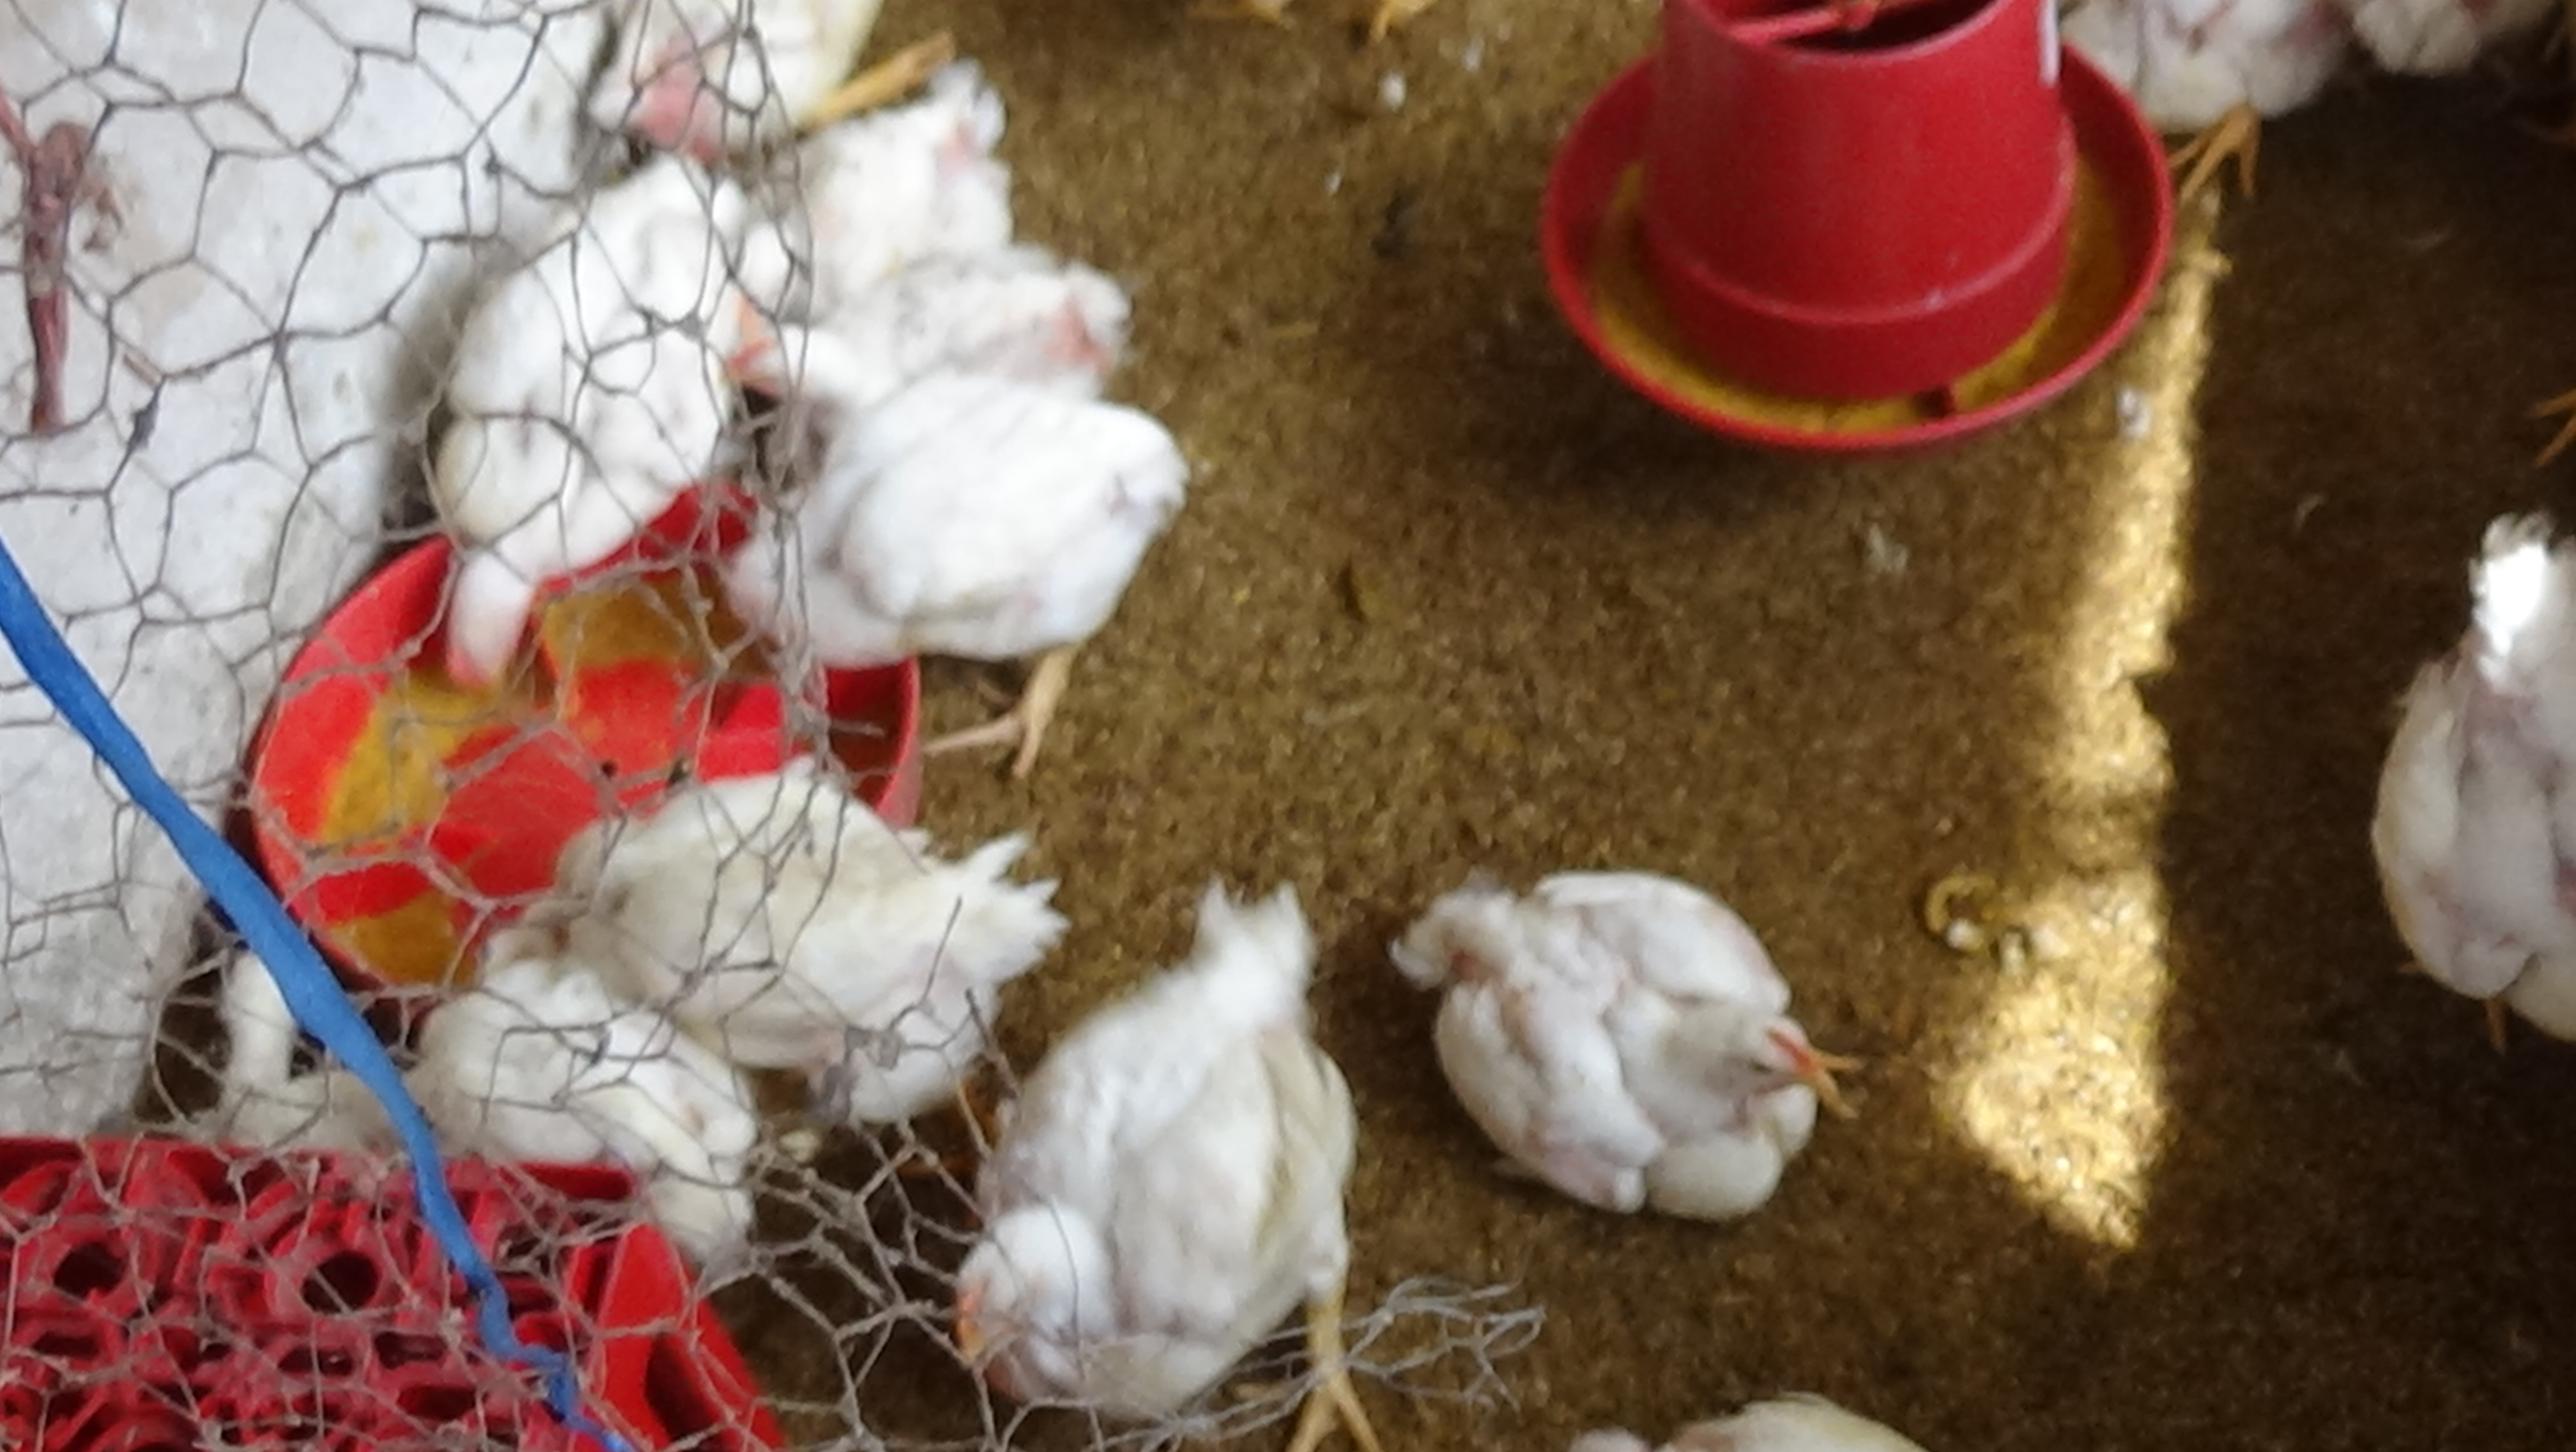Pollos: (906, 850, 1392, 1395), (393, 154, 761, 705), (1410, 818, 1863, 1227), (492, 760, 1042, 1096), (690, 397, 1189, 760), (2406, 496, 2576, 1128), (715, 46, 1051, 312), (718, 262, 1152, 446)
